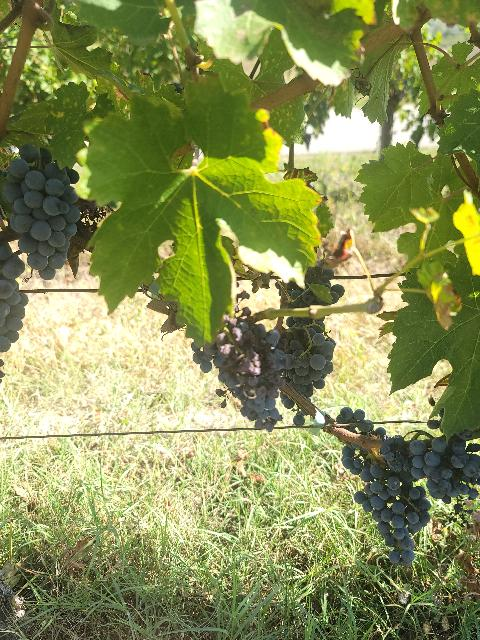grapes: (192, 308, 286, 430), (2, 145, 80, 279), (342, 455, 430, 566), (409, 434, 480, 504), (284, 326, 335, 398)
